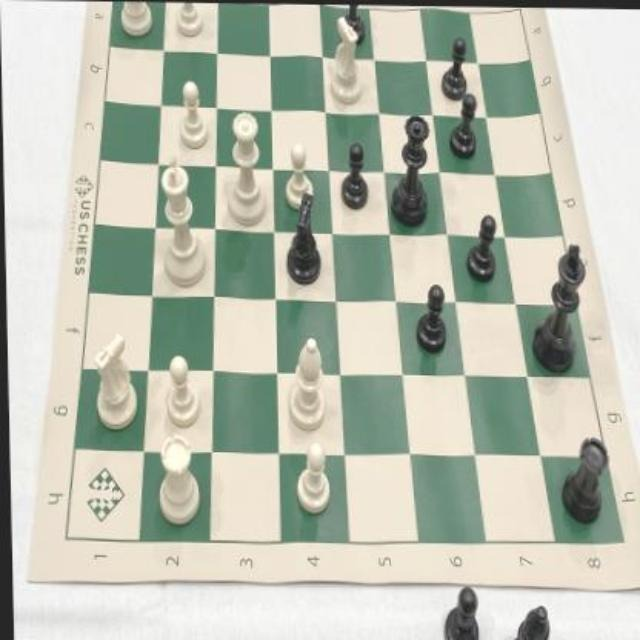black-king: (526, 231, 587, 374)
black-knight: (279, 191, 325, 286)
black-pawn: (411, 274, 451, 357), (335, 135, 371, 215), (462, 209, 497, 287), (444, 90, 482, 159), (436, 34, 469, 102), (337, 4, 369, 46)
black-queen: (385, 106, 435, 229)
black-rook: (553, 426, 611, 528)
white-bishop: (283, 337, 327, 433)
white-king: (155, 152, 209, 290)
white-knight: (87, 332, 141, 432), (325, 11, 365, 111)
white-pawn: (289, 437, 333, 518), (159, 352, 200, 432), (175, 78, 210, 151), (279, 139, 314, 211), (171, 3, 209, 41)
white-queen: (224, 105, 270, 229)
white-rook: (154, 433, 201, 528), (113, 2, 156, 42)
